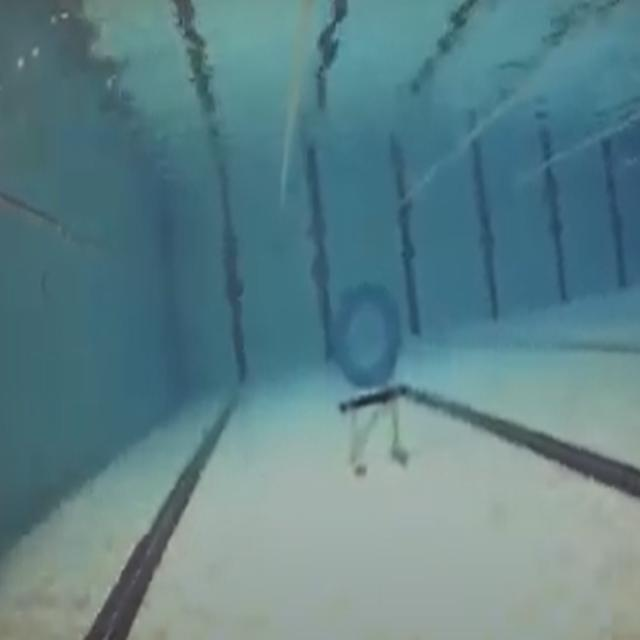Circle: (330, 280, 404, 394)
